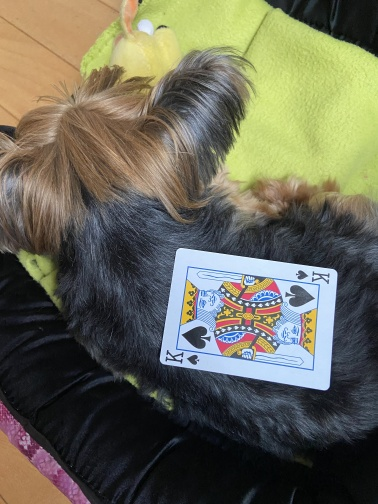king: (158, 246, 340, 393)
